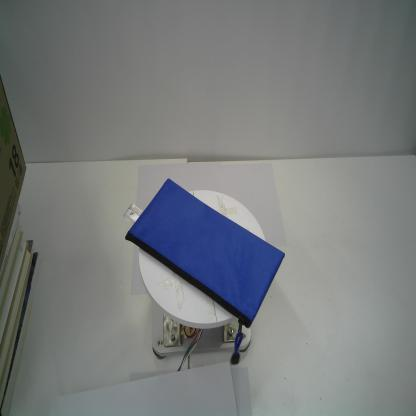Stationery: (122, 176, 288, 367)
